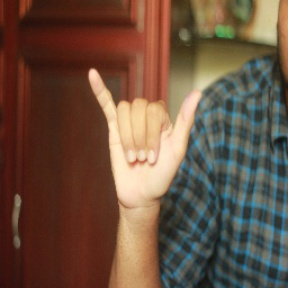J: (86, 63, 206, 202)
